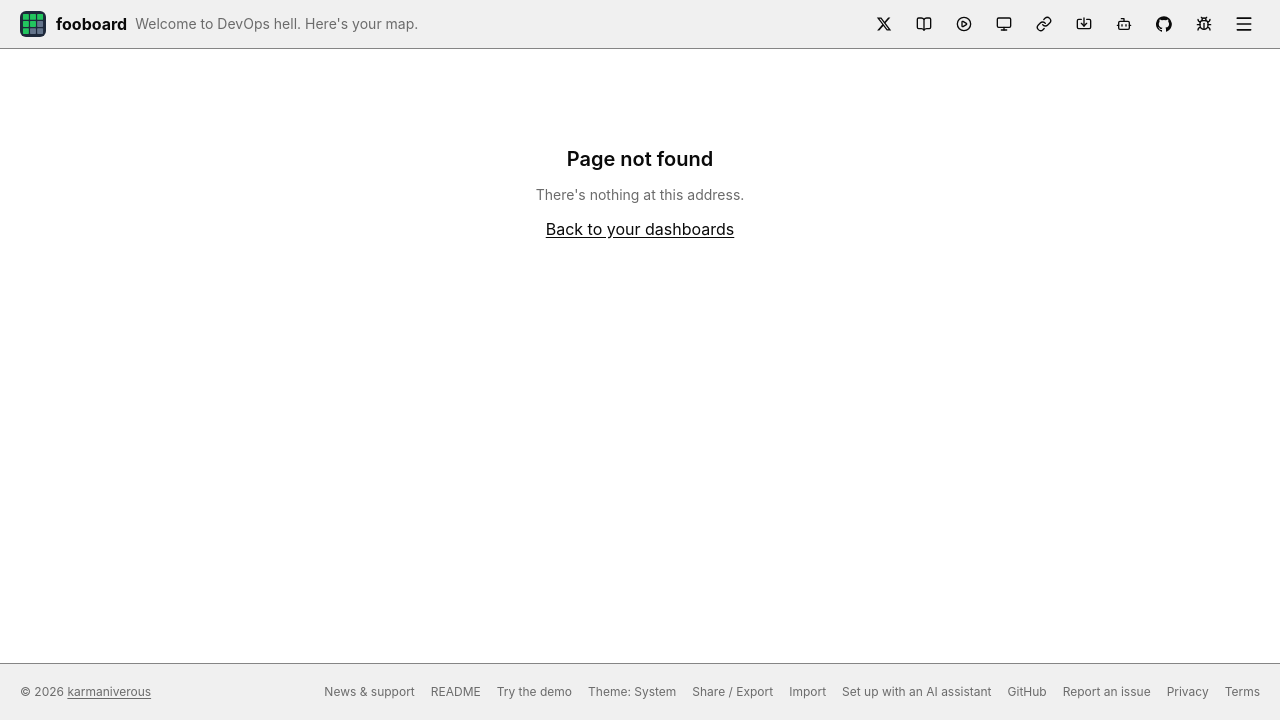
Scenario: App › shows Page not found at /spike/amplify, linking home
Expected: the footer is shown, [0, 663, 1279, 719]
Expected: the text "There's nothing at this address." is shown, [536, 185, 744, 205]
Click the link "Back to your dashboards" at x=640, y=229, box [546, 217, 734, 241]
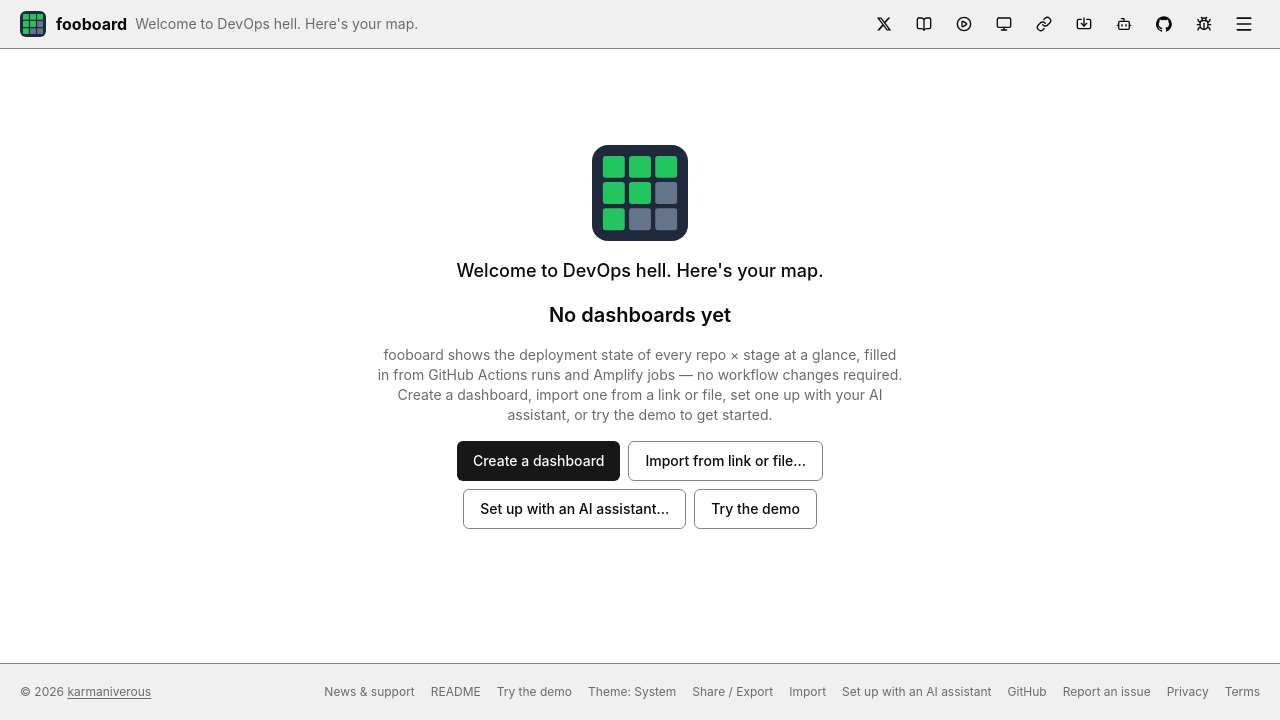
Now the heading "No dashboards yet" is shown, box [549, 301, 731, 329]
Now the heading "Page not found" is gone
